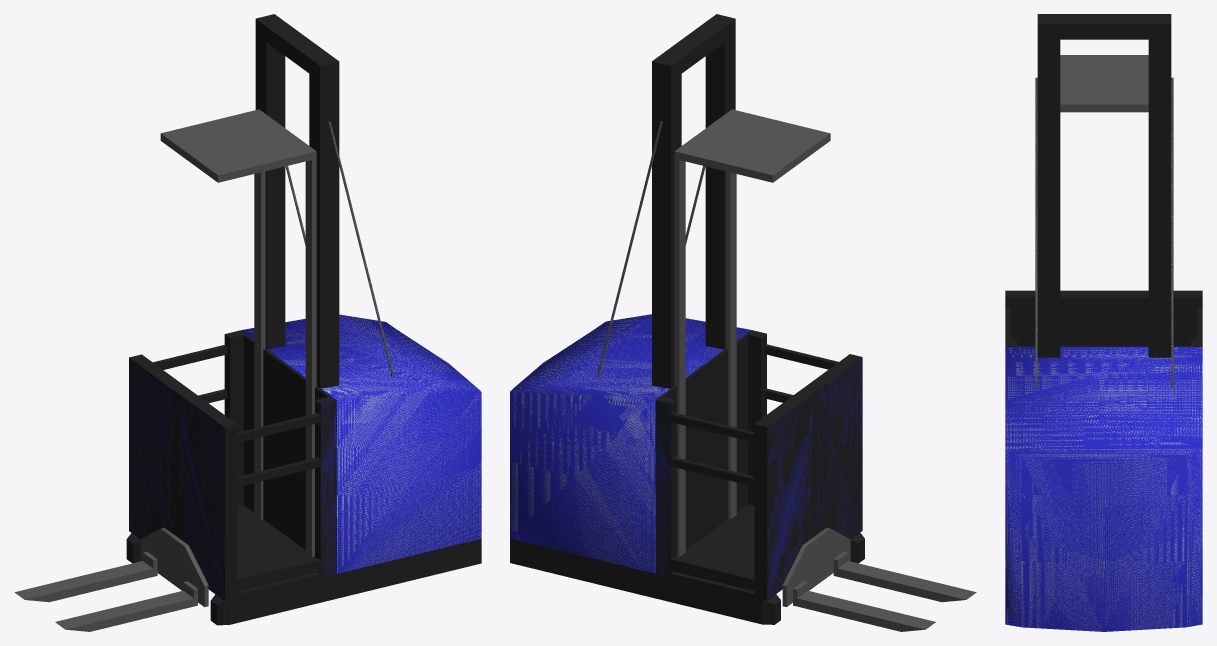
The model's file is Chariot plateforme.fbx.
3 renders of one model, left to right at view 1: azimuth 30°, elevation 25°; view 2: azimuth 150°, elevation 25°; view 3: azimuth 270°, elevation 25°, orthographic. The views are drawn at different scales.
Parts seen in each view (by area): view 1: nacelle1, Component_1_1, Component_5_1, Component_2_2, Component_10_1, Component_5_2, Component_9_2, Component_9_1, Component_4_2, Component_4_1, Component_3_1, Component_6_1 (+1 smaller); view 2: nacelle1, Component_1_1, Component_5_2, Component_2_1, Component_10_1, Component_5_1, Component_9_1, Component_9_2, Component_4_1, Component_4_2, Component_3_1, Component_6_1 (+1 smaller); view 3: Component_1_1, nacelle1, Component_5_1, Component_5_2, Component_10_1, Component_6_1, Component_28_1, Component_28_2.
Part boxes in pixels (x1,y1,x2,y2): nacelle1: (129,330,335,600); Component_1_1: (241,314,481,573); Component_5_1: (309,53,339,388); Component_2_2: (210,538,481,625); Component_10_1: (160,109,316,182); Component_5_2: (255,14,285,349); Component_9_2: (305,159,316,556); Component_9_1: (254,171,265,519); Component_4_2: (14,551,157,602); Component_4_1: (55,581,197,631); Component_3_1: (140,527,208,607); Component_6_1: (266,22,327,72); nacelle1: (655,330,862,600); Component_1_1: (510,314,750,573); Component_5_2: (652,53,681,389); Component_2_1: (510,538,780,624); Component_10_1: (674,109,830,182); Component_5_1: (705,14,735,349); Component_9_1: (674,159,685,556); Component_9_2: (725,171,736,519); Component_4_1: (833,551,976,602); Component_4_2: (793,581,935,631); Component_3_1: (782,527,850,607); Component_6_1: (663,22,724,73); Component_1_1: (1005,347,1202,631); nacelle1: (1005,290,1202,346); Component_5_1: (1037,14,1060,357); Component_5_2: (1148,14,1171,357); Component_10_1: (1060,55,1148,112); Component_6_1: (1060,14,1148,39); Component_28_1: (1035,77,1037,387); Component_28_2: (1171,77,1173,387).
Size of the model in its own units: 258 by 315 by 105.
